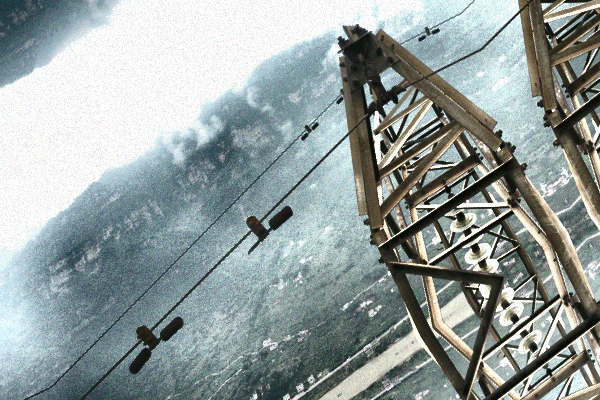damper: (127, 315, 185, 375), (299, 120, 320, 142), (416, 25, 441, 42)
damper_defect: (243, 204, 295, 259)
